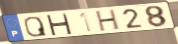1: (79, 12, 93, 33)
2: (122, 8, 145, 30)
8: (144, 5, 169, 28)
H: (45, 13, 74, 36), (95, 9, 121, 33)
Q: (23, 16, 49, 38)
